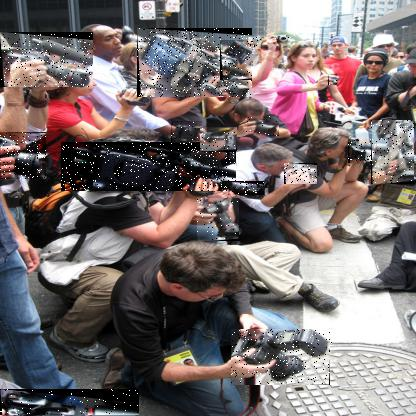Camera: (62, 143, 238, 193), (138, 29, 254, 99), (233, 330, 335, 387), (1, 34, 95, 90), (1, 390, 141, 416), (372, 121, 416, 186), (1, 133, 48, 181), (198, 199, 241, 243), (221, 41, 254, 82), (349, 140, 391, 165), (201, 128, 239, 153), (286, 164, 320, 186), (172, 122, 204, 145), (246, 117, 281, 138), (223, 182, 266, 197), (269, 36, 291, 46), (249, 38, 263, 51), (329, 75, 339, 87)
